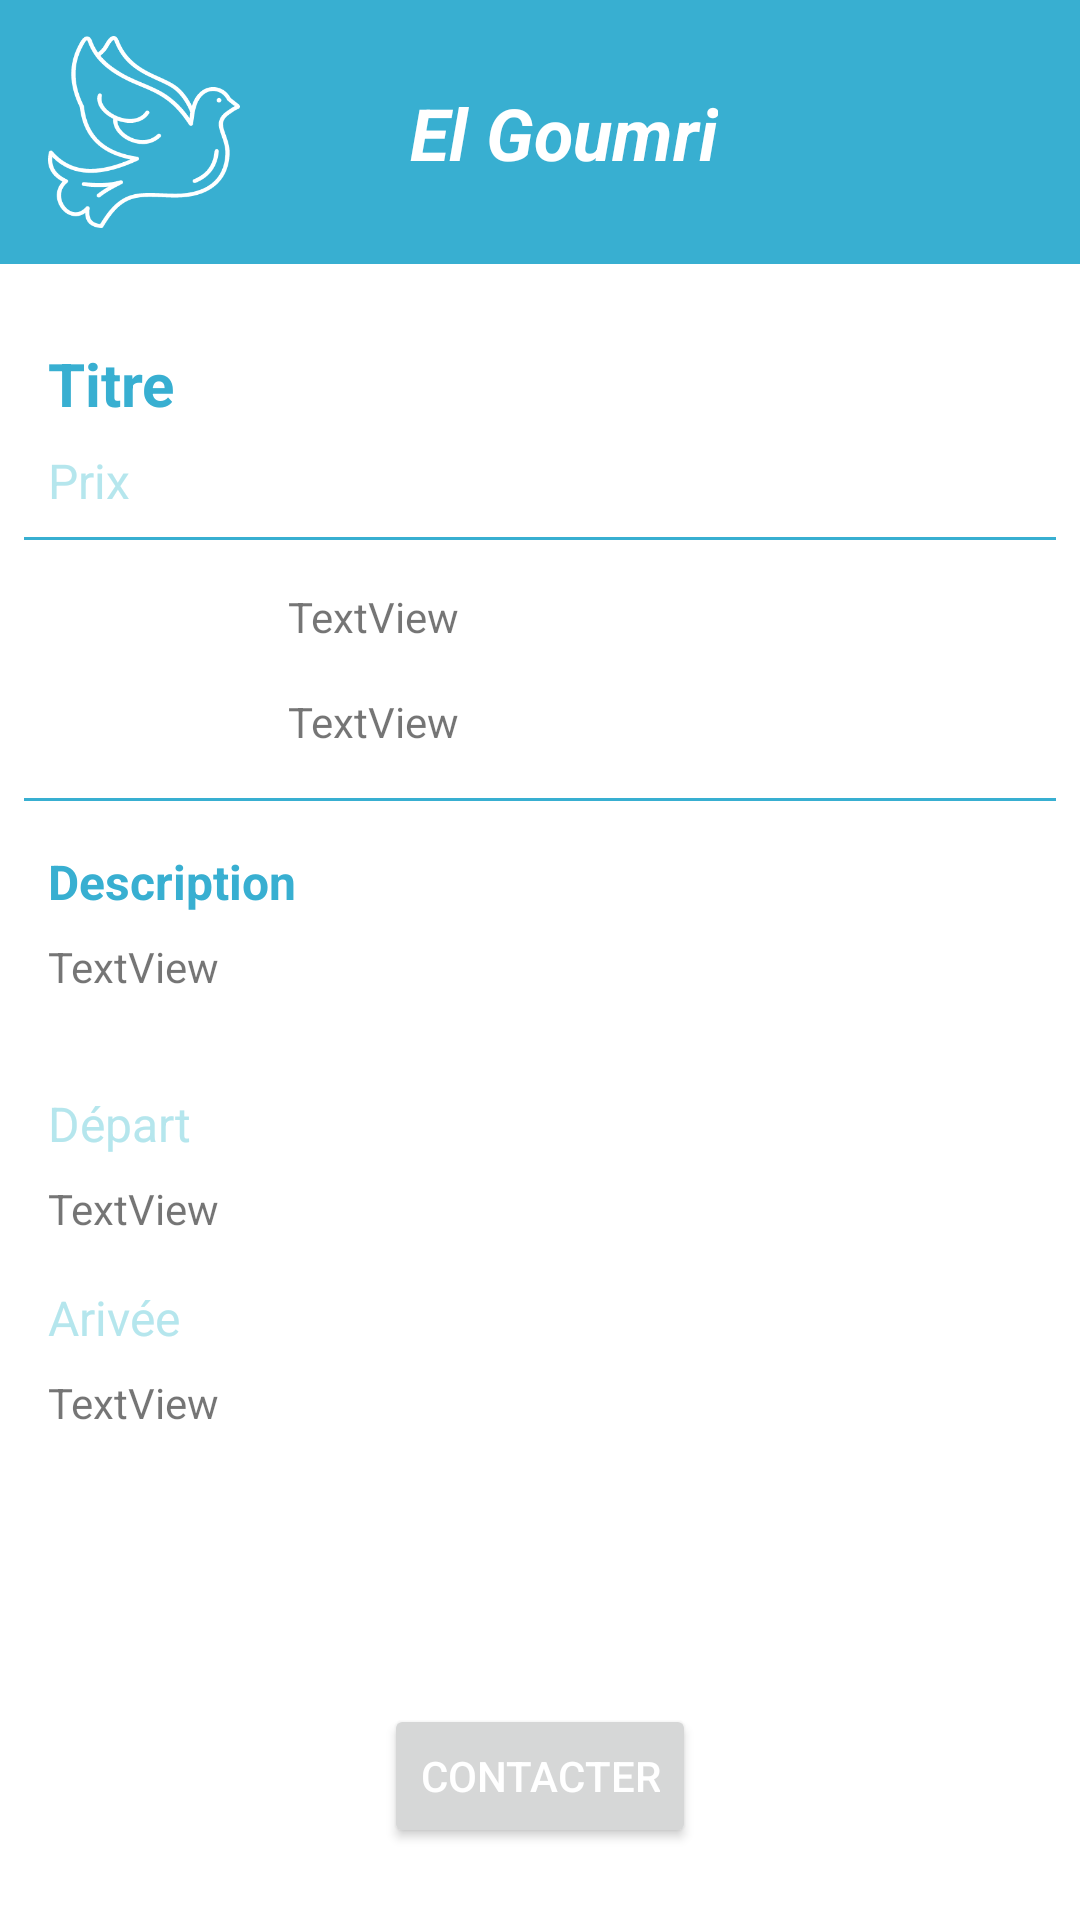

Named icons in this screenshot (1080px x 1920px) and their bounding boxes, {"left": x1, "top": y1, "right": x2, "bottom": y2}:
pigeon: {"left": 48, "top": 36, "right": 240, "bottom": 228}
